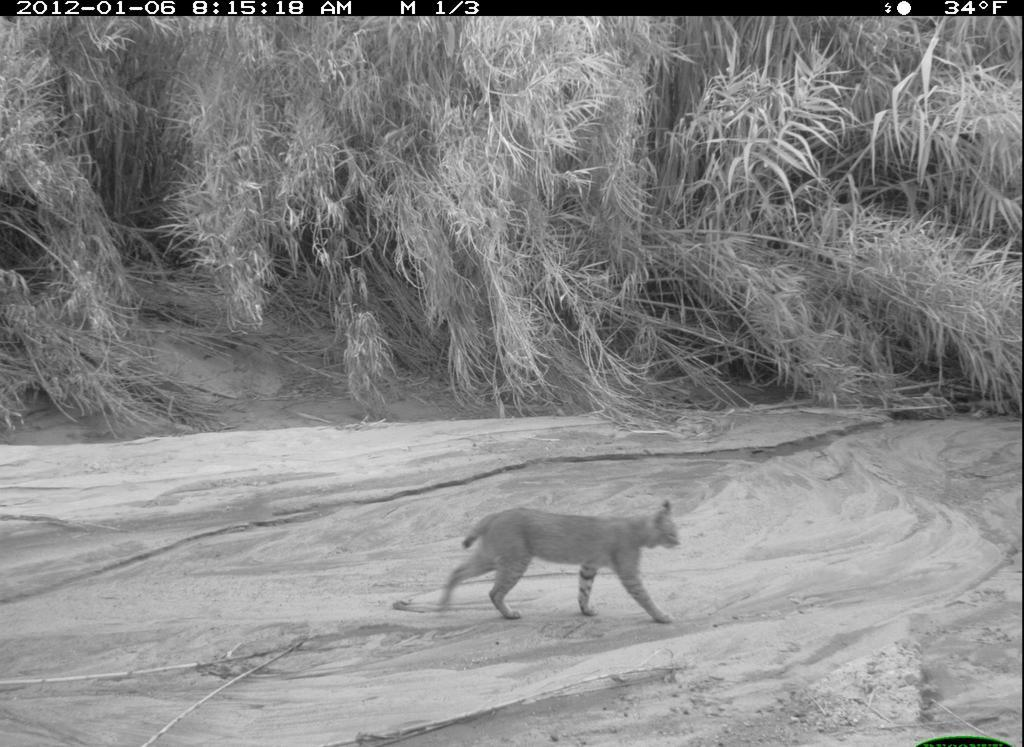bobcat: (433, 491, 688, 628)
